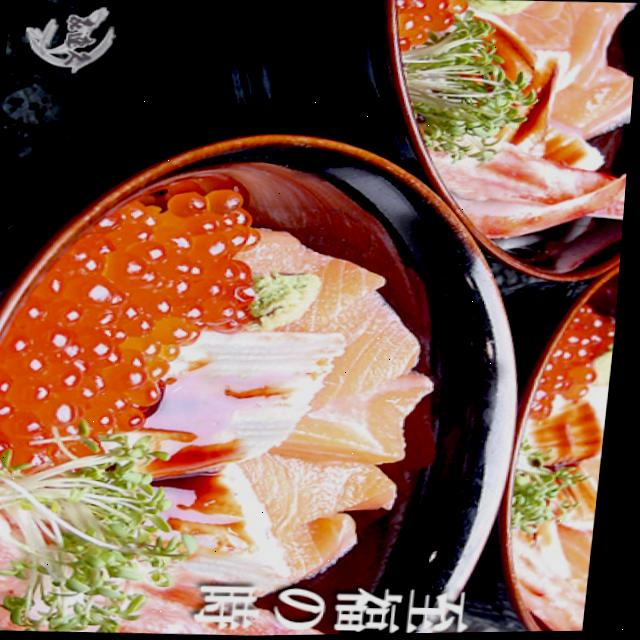刺身生食: (0, 108, 552, 596)
